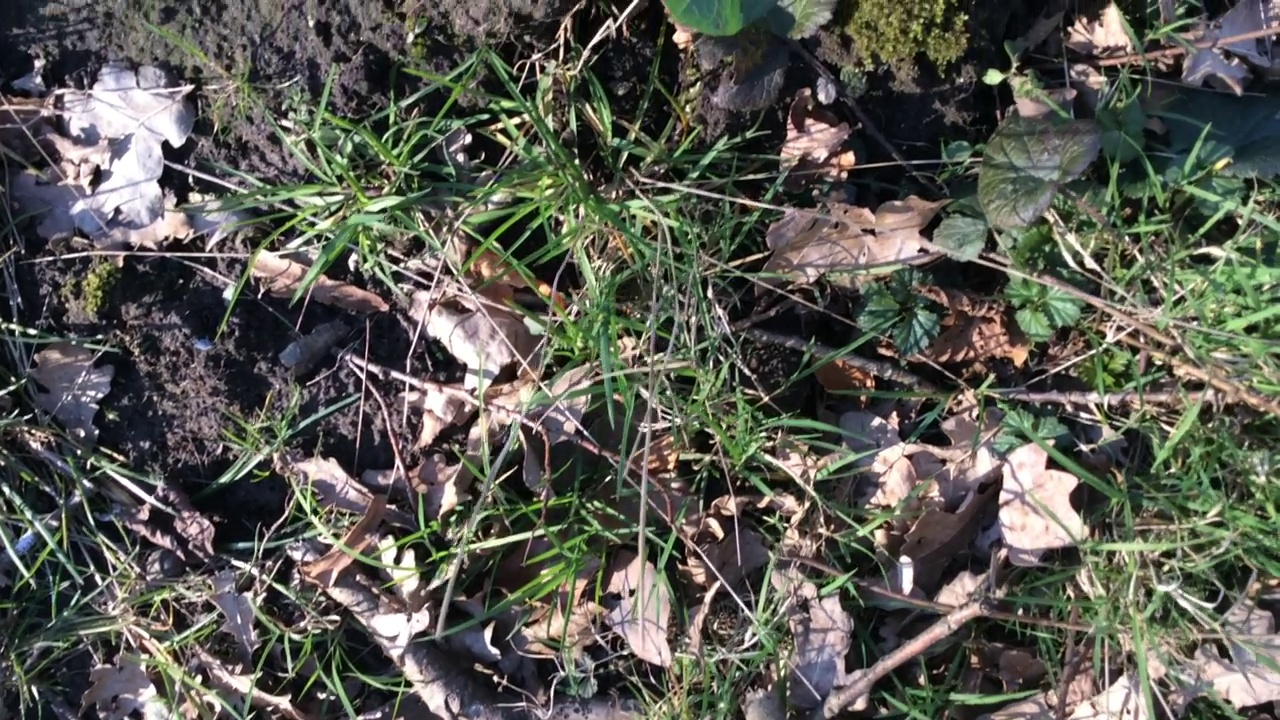rumex: (661, 1, 775, 35)
